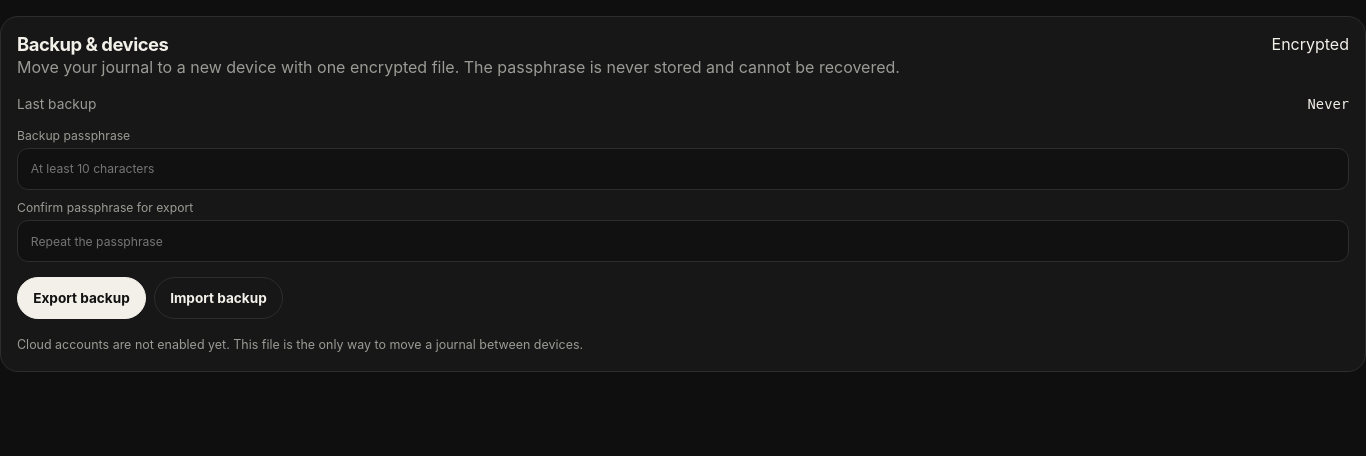
Scenario: BackupCard › requires a long passphrase before exporting
The image size is (1366, 456).
Type "short" into the password field labelled "Backup passphrase" at (683, 169), box [17,148,1349,190]
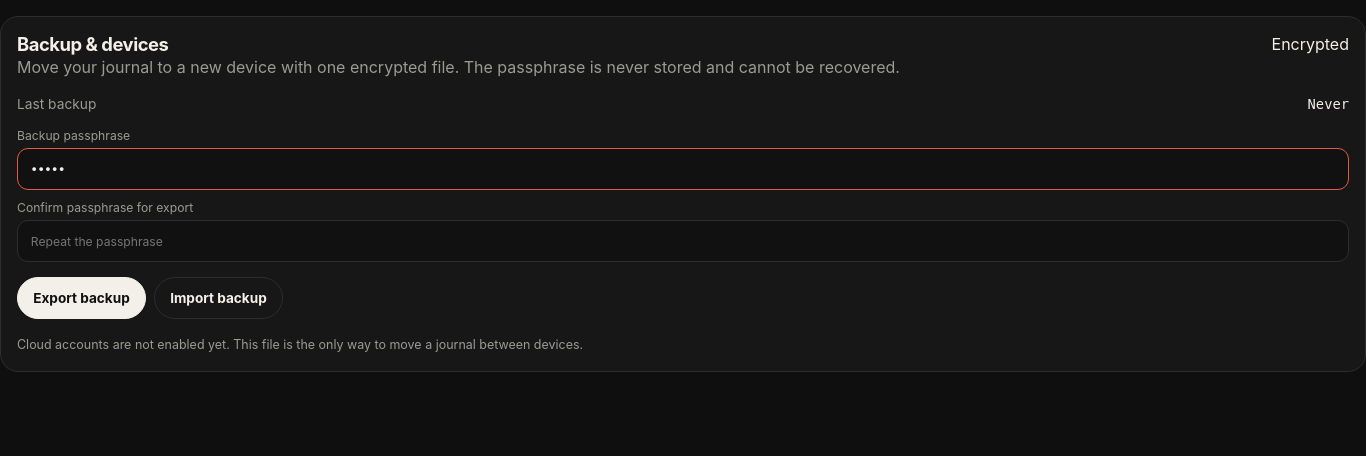
Click the button "Export backup" at (81, 298), box [17,277,146,319]
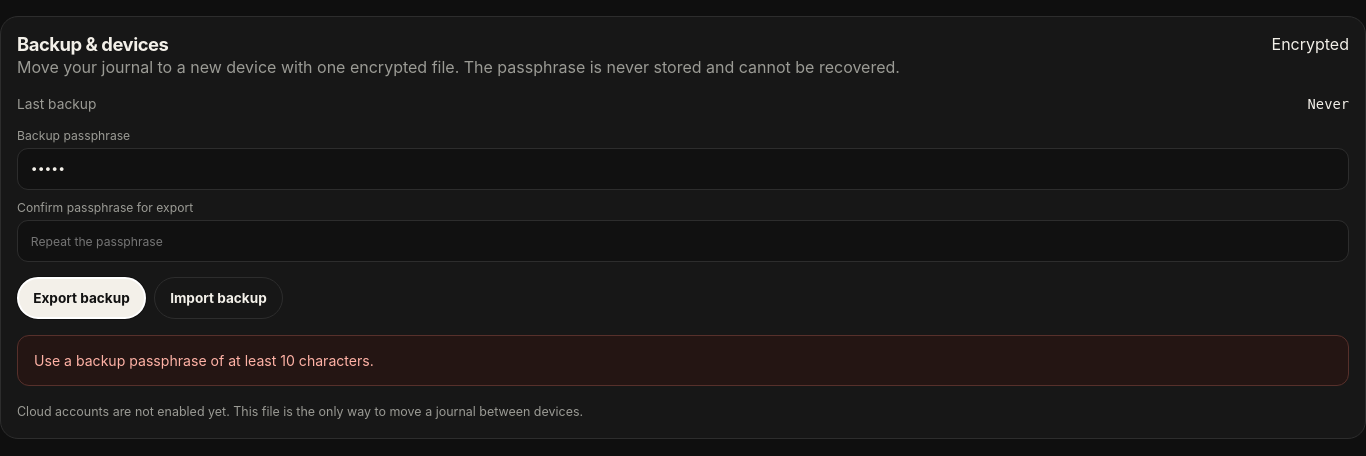
Expected: the text "Use a backup passphrase of at least 10 characters." is shown, [17,335,1349,386]
